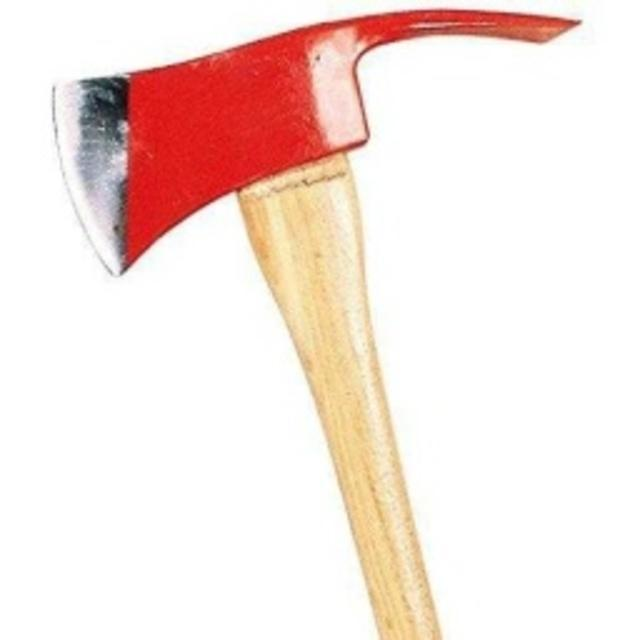ax: (44, 6, 592, 640)
